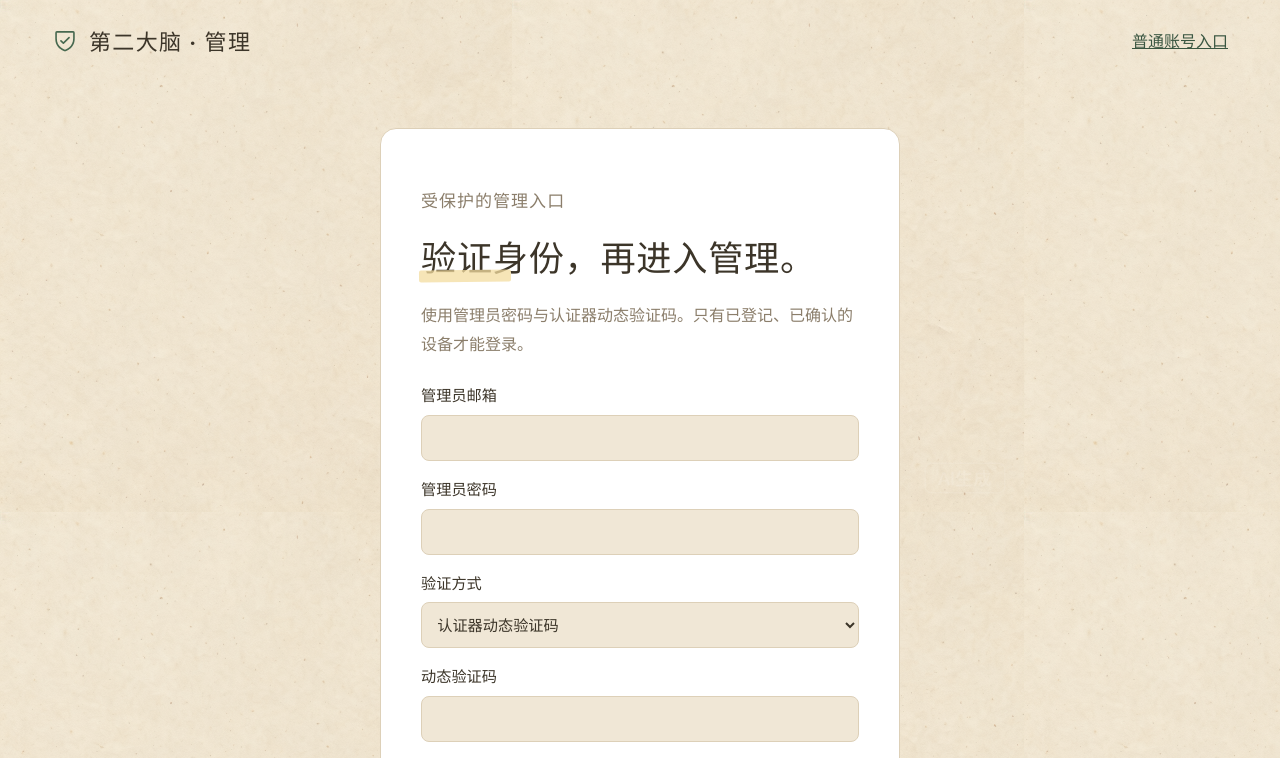
it: 失败后密码验证码清空，不自动重试且不提示账号是否存在
The width and height of the screenshot is (1280, 758).
Type "curator@example.test" into the field labelled "管理员邮箱".
click(640, 438); type("curator@example.test")  # box [421,415,859,461]
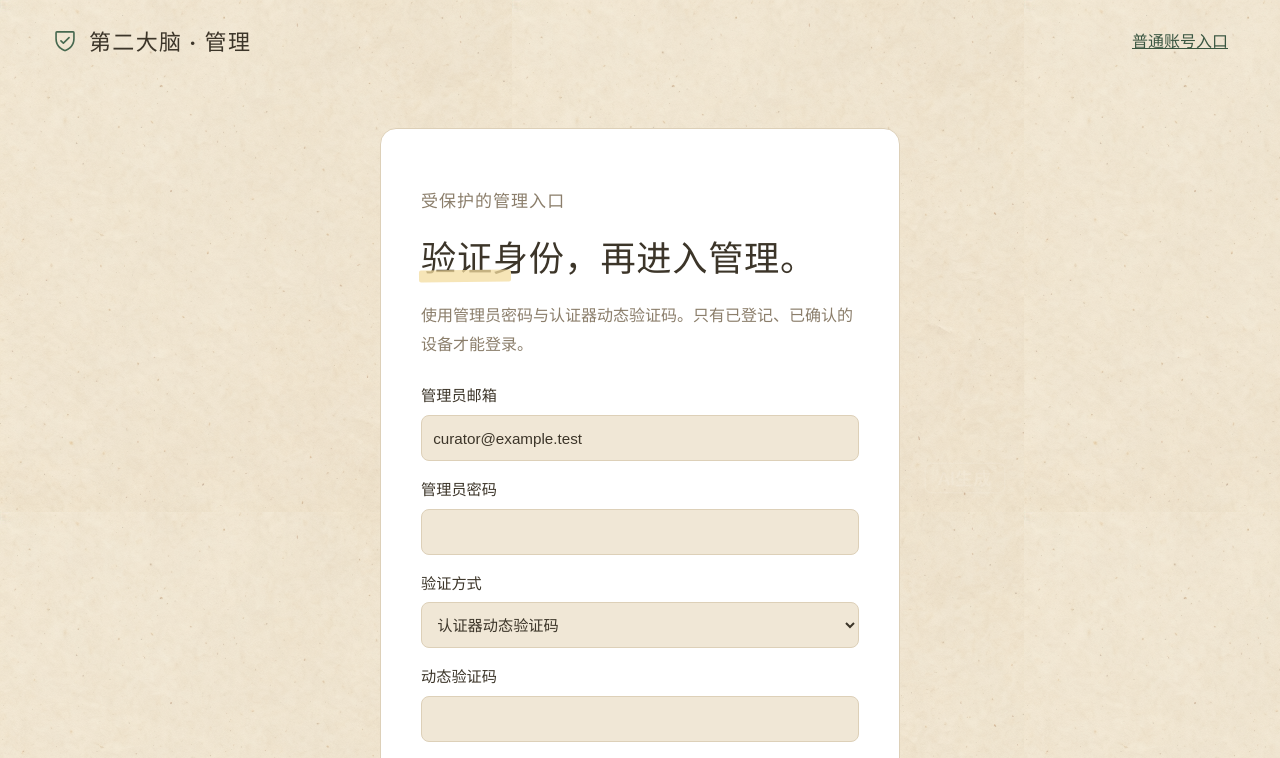
Type "bad-password" into the password field labelled "管理员密码".
click(640, 532); type("bad-password")  # box [421,509,859,555]
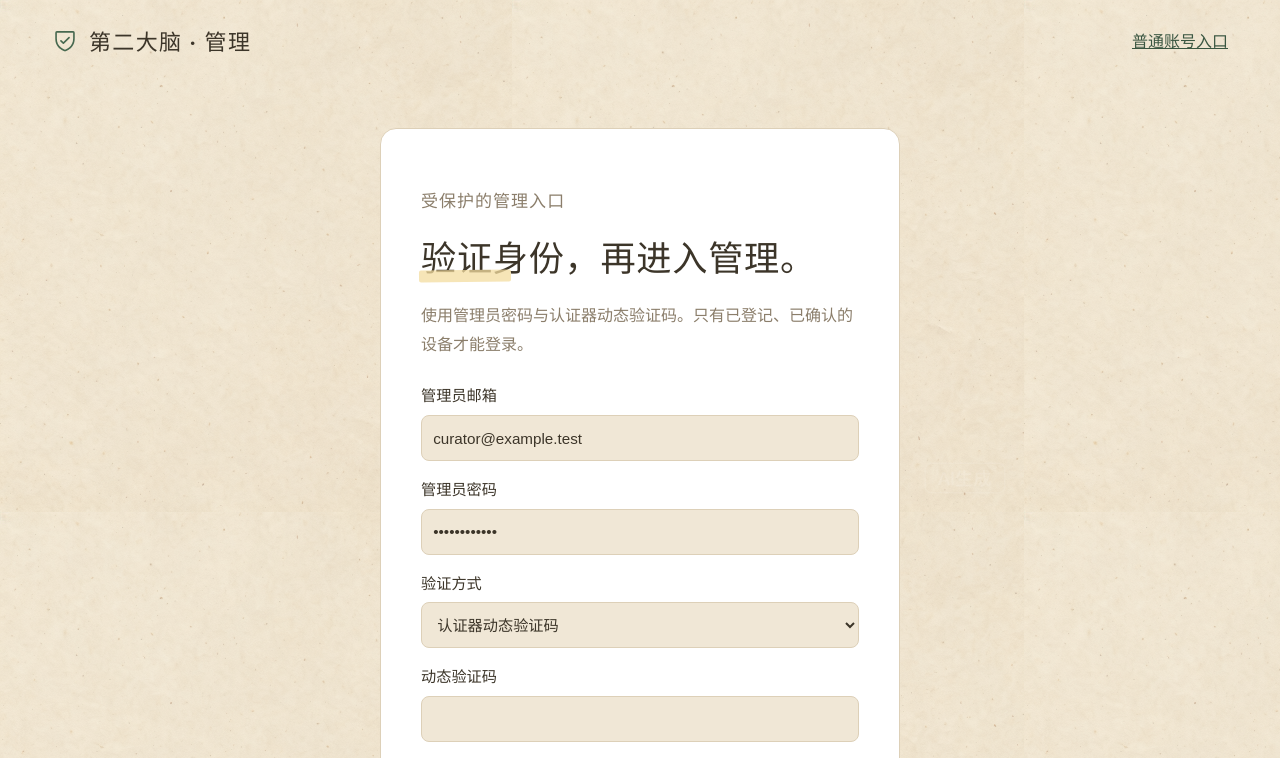
Type "000000" into the field labelled "动态验证码".
click(640, 719); type("000000")  # box [421,696,859,742]
(page scrolled)
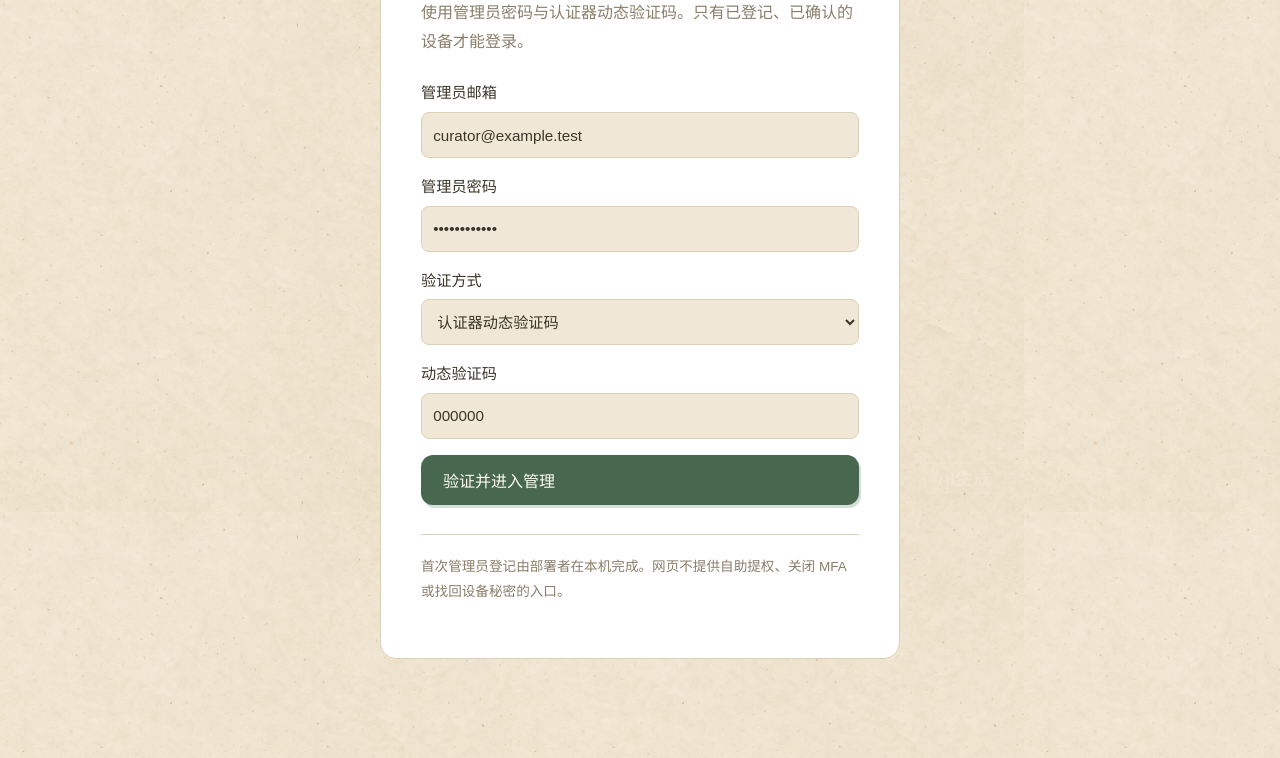
Click the button "验证并进入管理".
click(499, 481)  # box [421,455,859,505]
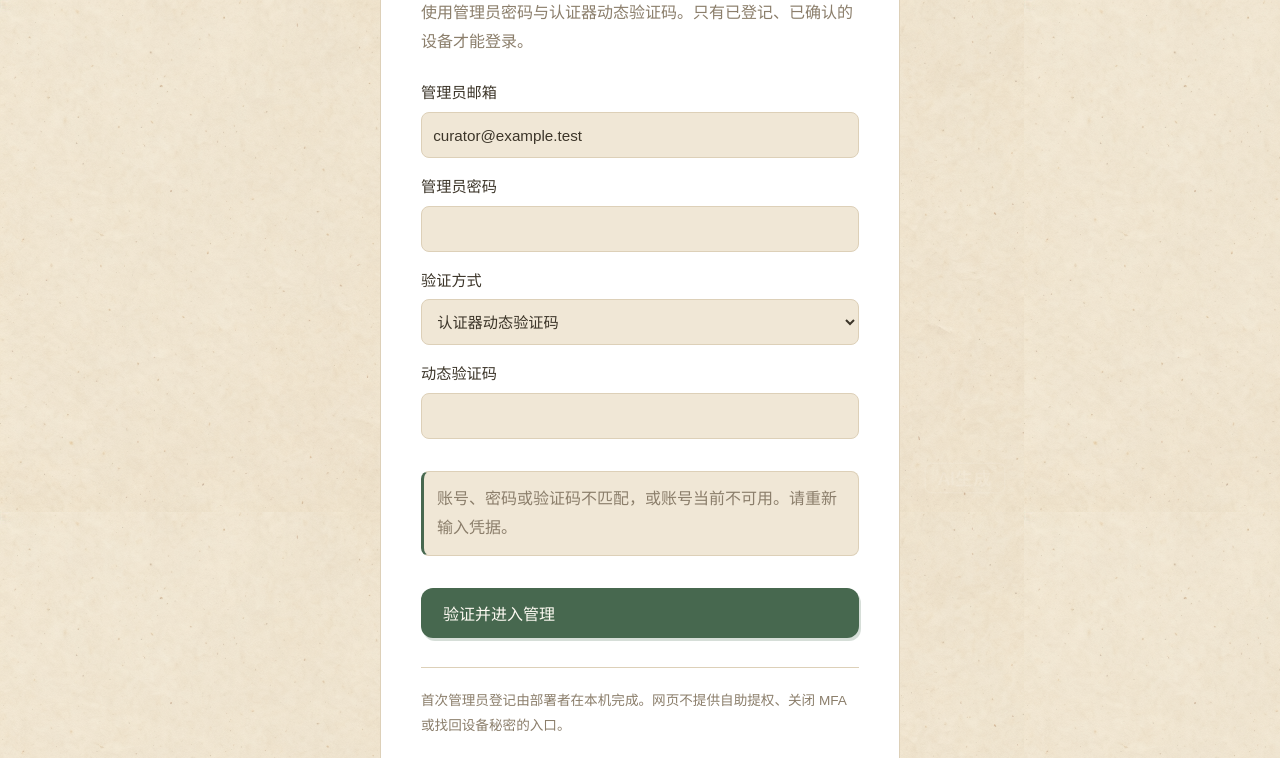
Expected: the message "账号、密码或验证码不匹配，或账号当前不可用。请重新输入凭据。" is shown, [421,471,859,556]
Expected: the password field labelled "管理员密码" is empty, [421,206,859,252]
Expected: the field labelled "动态验证码" is empty, [421,393,859,439]
